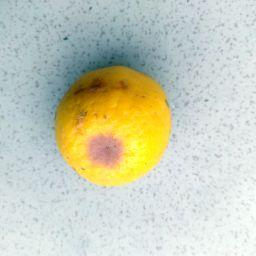Unripe: (53, 67, 173, 187)
